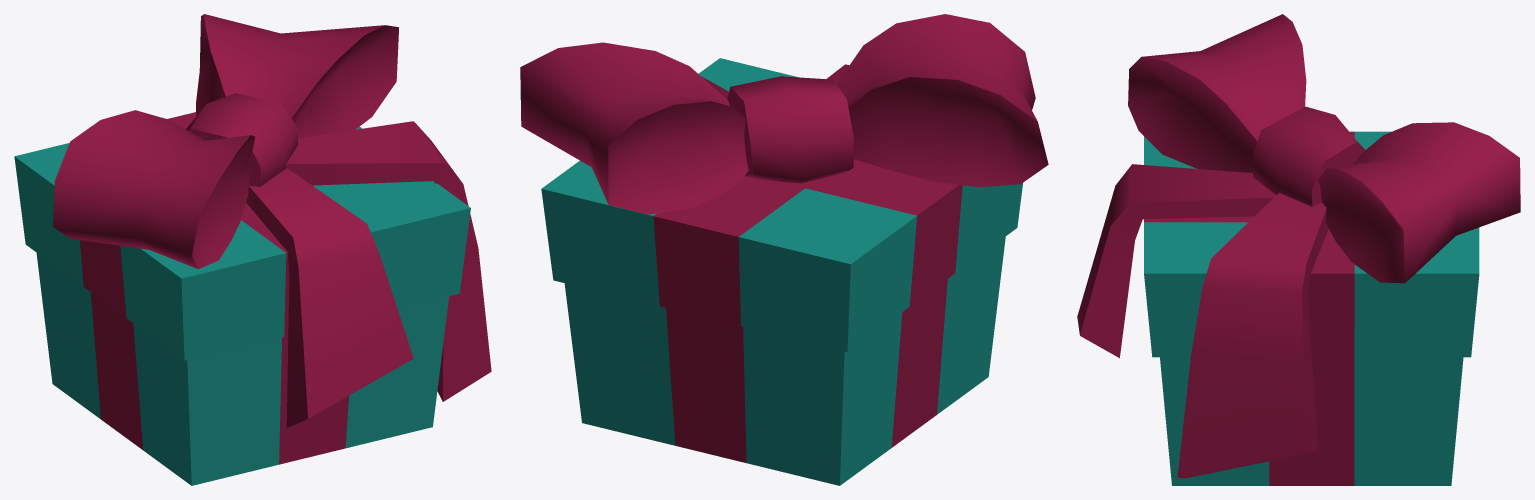
File: gift_box_01.fbx
3 views of the same model, side by side, from view 1: azimuth 30°, elevation 25°; view 2: azimuth 150°, elevation 25°; view 3: azimuth 270°, elevation 25° (orthographic). The views are drawn at different scales.
Parts seen in each view (by area): view 1: gift_box_01; view 2: gift_box_01; view 3: gift_box_01.
Boxes of the visible parts, bbox=[...] form: gift_box_01: bbox=[14, 14, 491, 485]; gift_box_01: bbox=[520, 14, 1048, 485]; gift_box_01: bbox=[1077, 14, 1520, 485].
Bounding box in the file's own units: 107 × 80.13 × 97.36.
